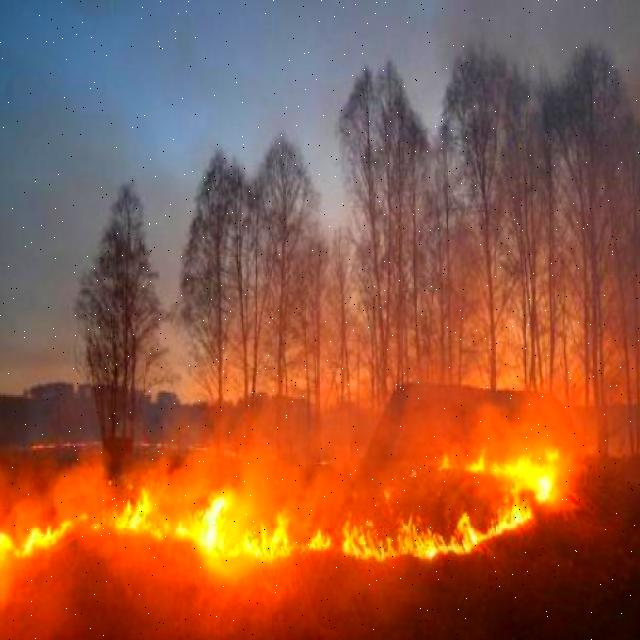fire: (0, 495, 570, 559), (484, 453, 556, 484)
